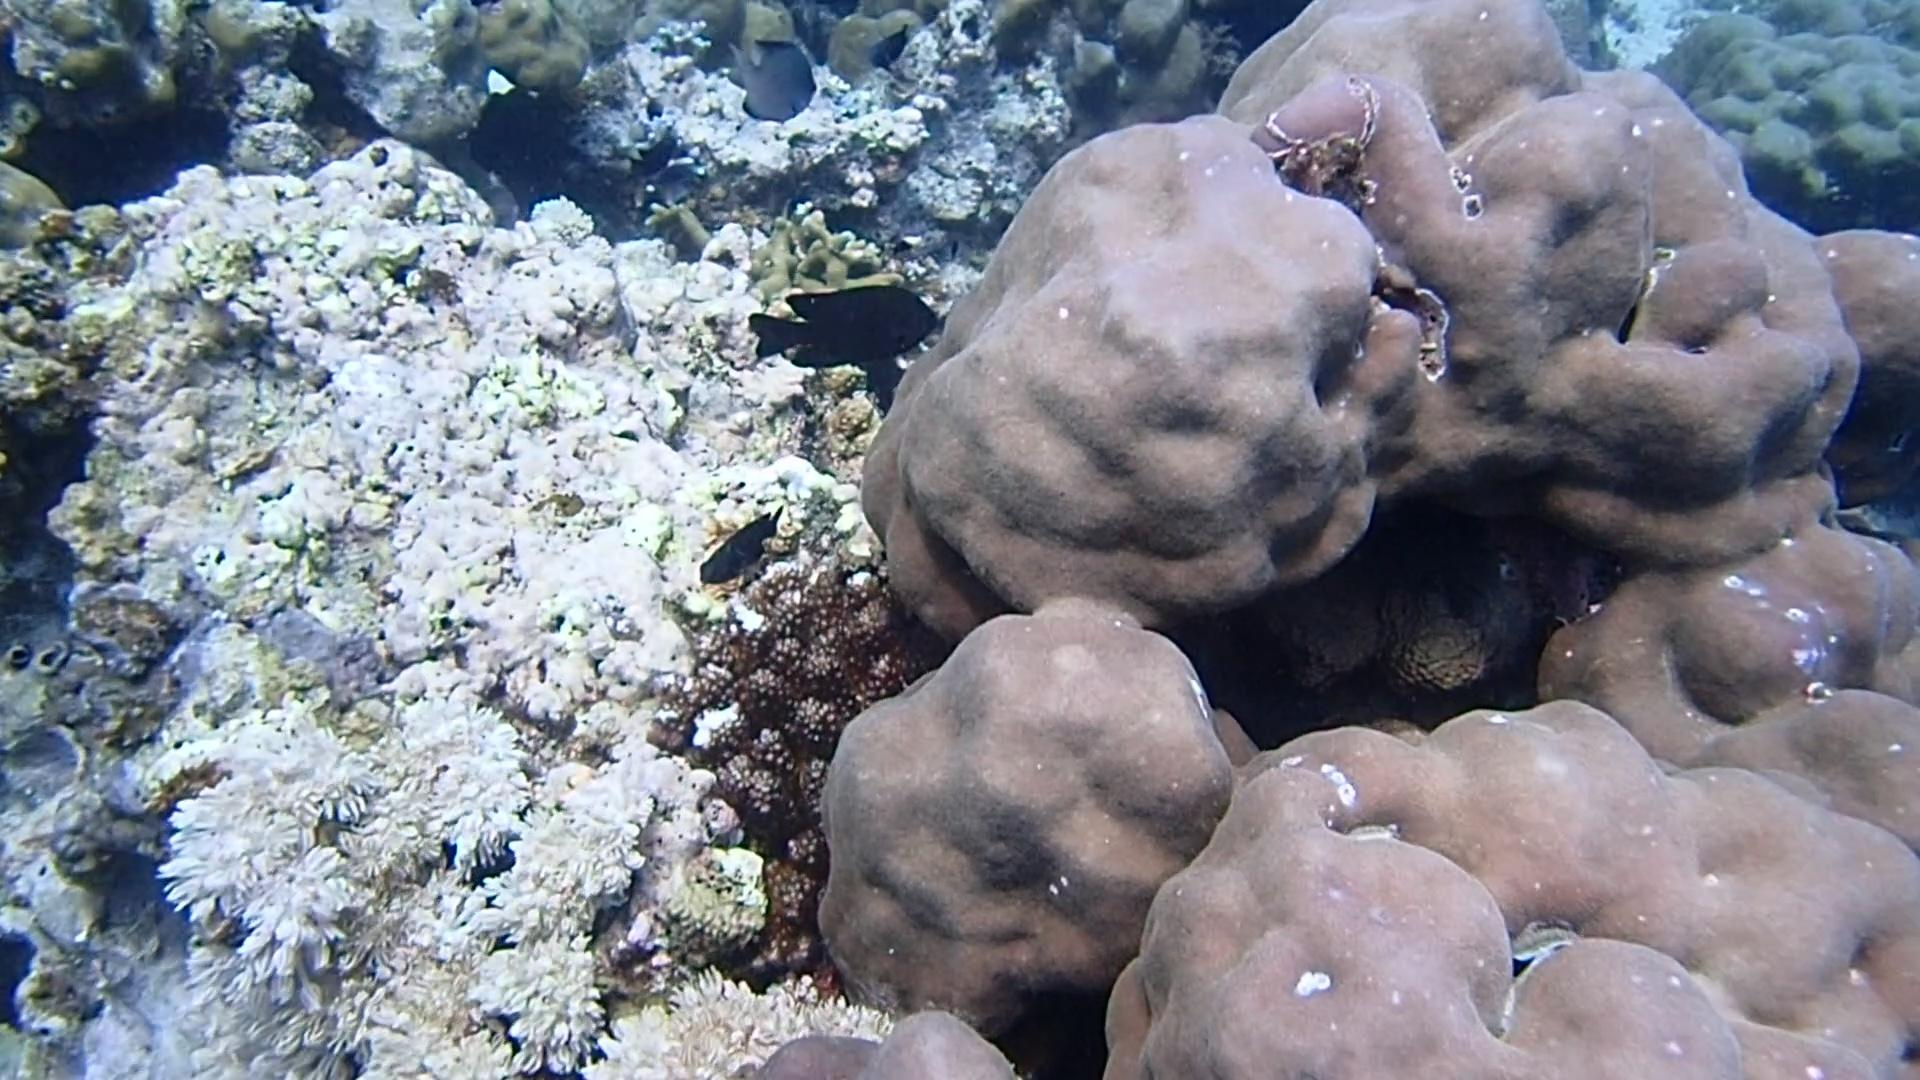Dark Fish: (737, 273, 951, 371), (692, 500, 786, 599), (625, 132, 683, 183), (862, 18, 910, 79)
Light Fish - Dark Fin: (716, 29, 828, 129)
